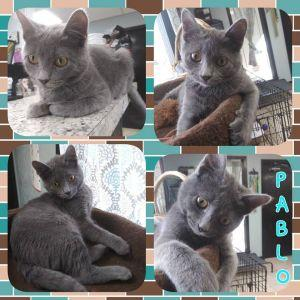rblue: (30, 146, 97, 207)
